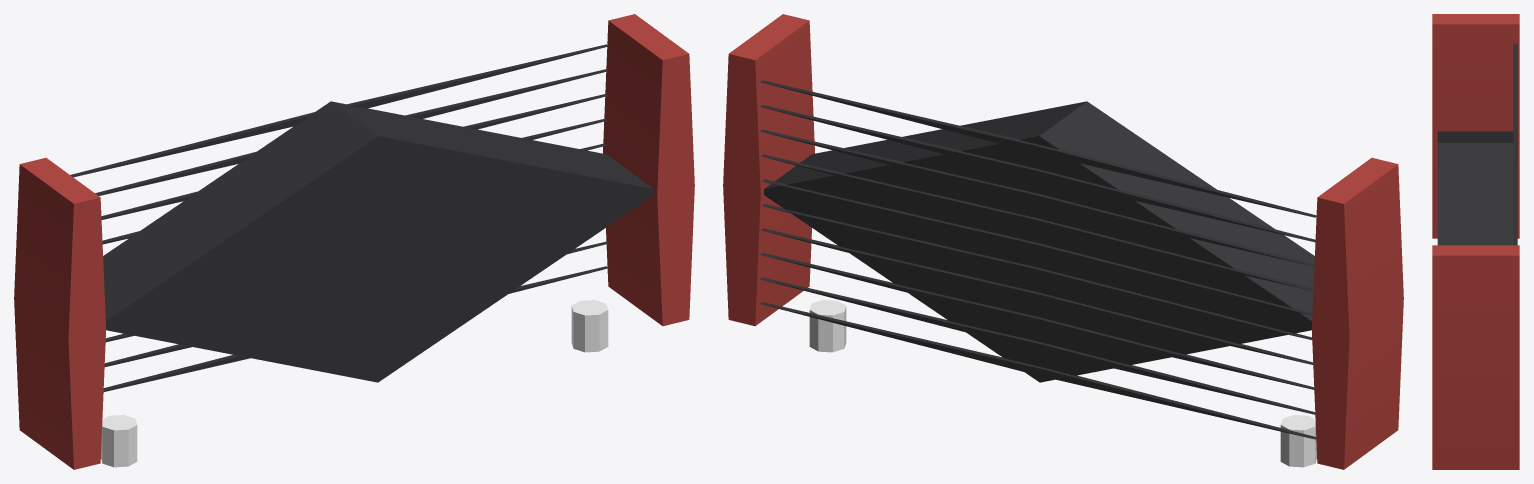
The model's file is oil_cooler.glb.
3 renders of one model, left to right at view 1: azimuth 30°, elevation 25°; view 2: azimuth 150°, elevation 25°; view 3: azimuth 270°, elevation 25°, orthographic. The views are drawn at different scales.
Visible parts, largest first — view 1: lod0; view 2: lod0; view 3: lod0.
Boxes of the visible parts, x1,y1,x2,y2 form: lod0: (14,14,694,469); lod0: (723,14,1403,469); lod0: (1432,14,1519,469).
Size of what is drawn, in the model's own units: 0.266 by 0.119 by 0.04.
